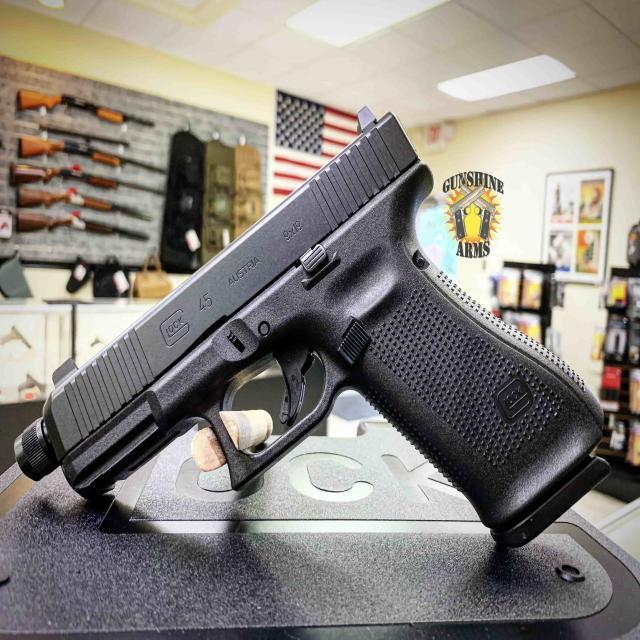Pistol: (7, 88, 621, 568)
